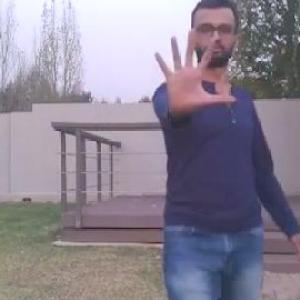follow_hand: (149, 24, 238, 114)
